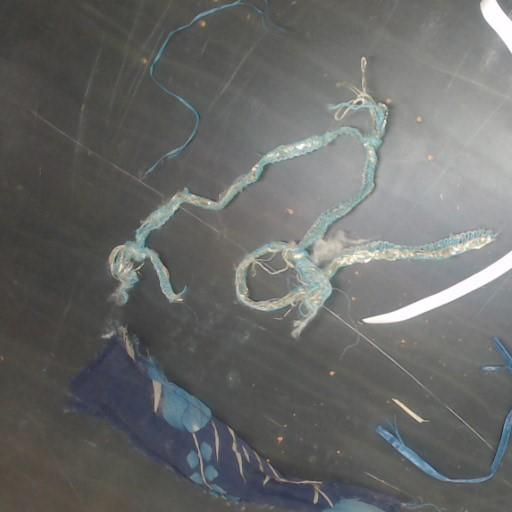cloth: (109, 58, 495, 336), (70, 323, 400, 511)
conveyor belt: (0, 0, 511, 511)
thread: (149, 0, 246, 157), (363, 250, 511, 324), (377, 408, 511, 483), (480, 0, 511, 53), (495, 337, 511, 374)
